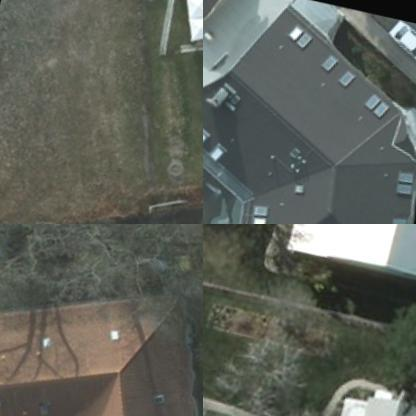car: (381, 17, 415, 67)
